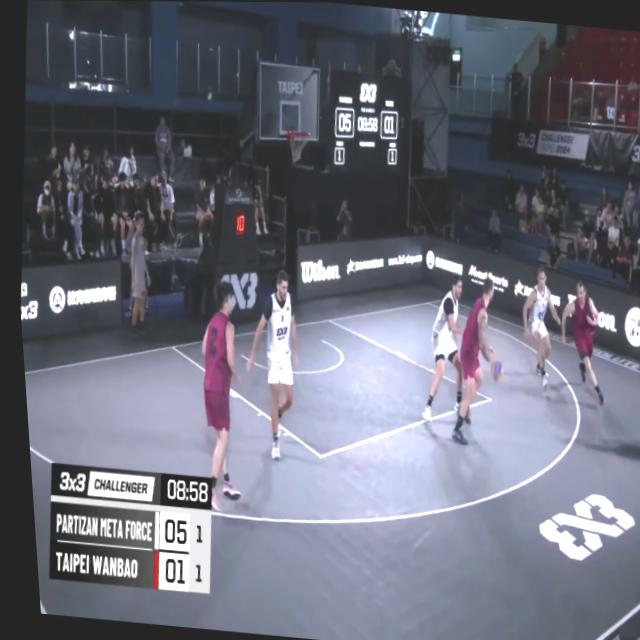ball: (483, 353, 501, 384)
hoop: (282, 122, 309, 165)
player: (177, 273, 254, 515), (230, 267, 307, 465), (436, 271, 512, 458), (409, 272, 470, 428), (547, 279, 610, 405), (509, 265, 565, 390)
